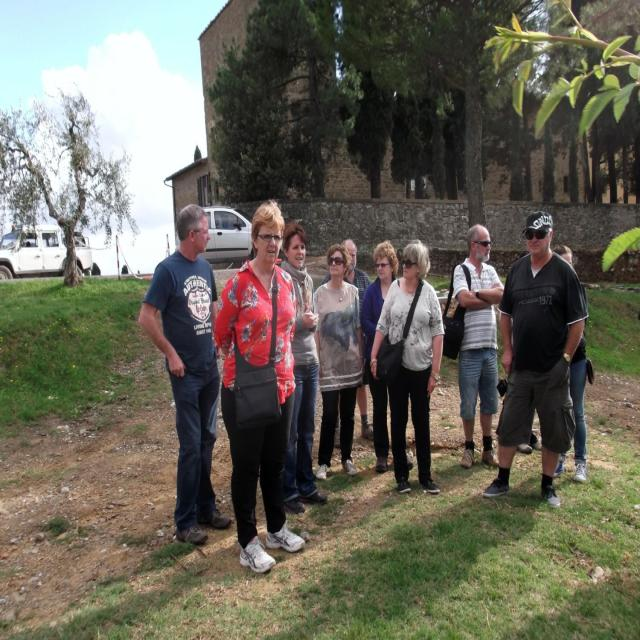body: (210, 197, 308, 576), (480, 207, 590, 510), (138, 203, 235, 546), (367, 237, 445, 499), (279, 222, 328, 512), (451, 223, 507, 469), (315, 243, 365, 480), (357, 238, 405, 474), (543, 245, 589, 483), (324, 238, 375, 451), (500, 236, 544, 464), (632, 301, 640, 354), (5, 222, 16, 235)
